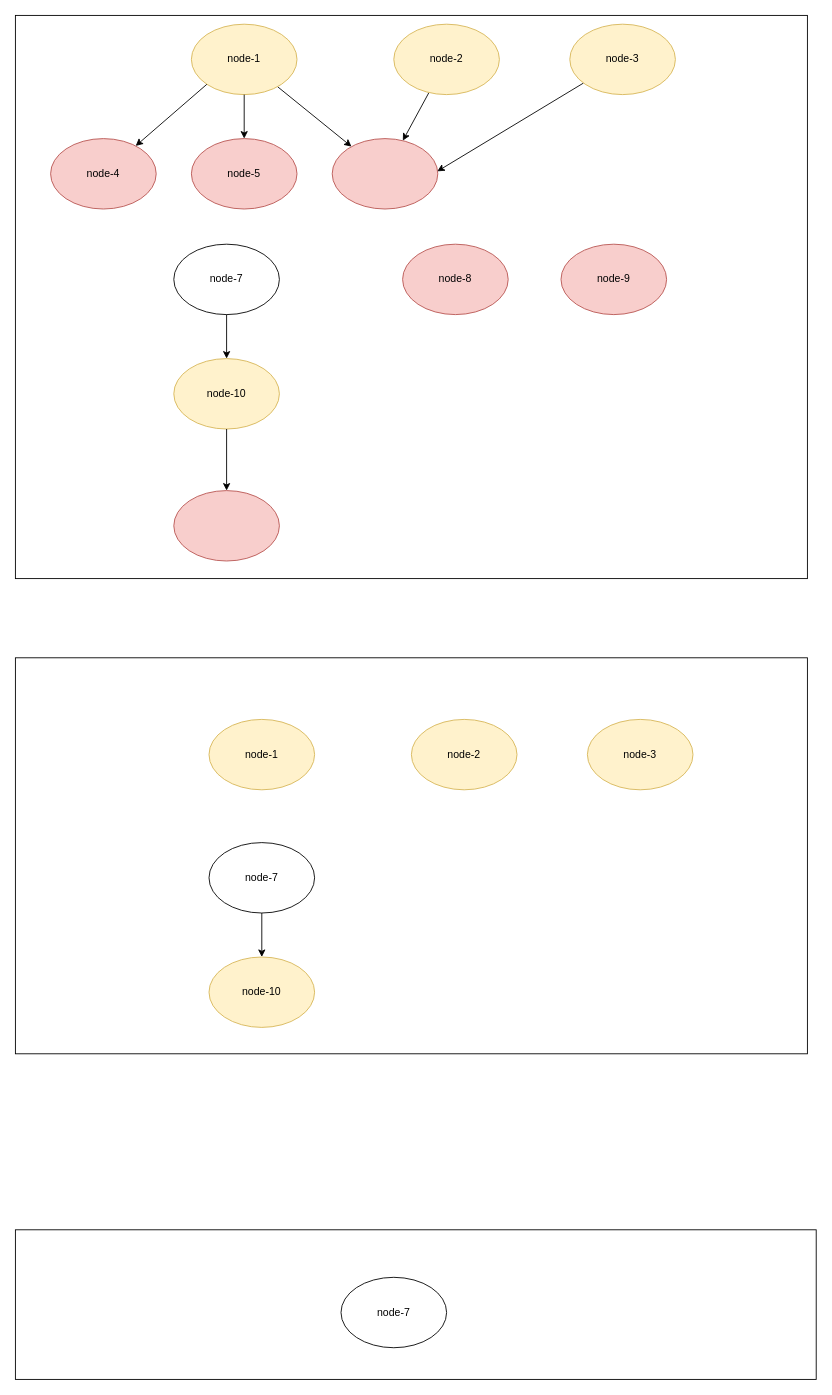
Image size: 832x1395. Some labels were removed from this diagram. Each missing label, with the centre of its shape:
node-11: the point at 226,525
node-6: the point at 384,173
